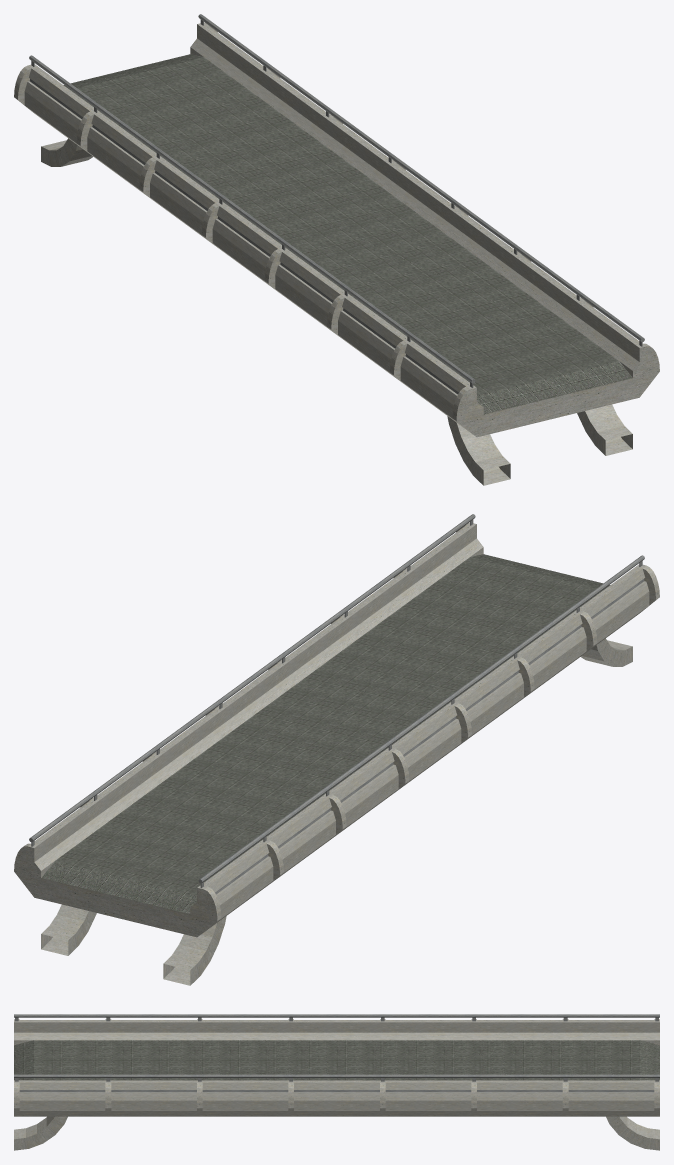
The model's file is thm_corl_imprv_bridge_lg_s02_l0.fbx.
3 renders of one model, top to bottom at view 1: azimuth 30°, elevation 25°; view 2: azimuth 150°, elevation 25°; view 3: azimuth 270°, elevation 25°, orthographic. The views are drawn at different scales.
Visible parts, largest first — view 1: mesh_node; view 2: mesh_node; view 3: mesh_node.
Part boxes in pixels (x1,y1,x2,y2): mesh_node: [14, 14, 659, 485]; mesh_node: [14, 514, 659, 985]; mesh_node: [14, 1014, 659, 1150].
Bounding box in the file's own units: 7.5 × 3.84 × 28.25.
